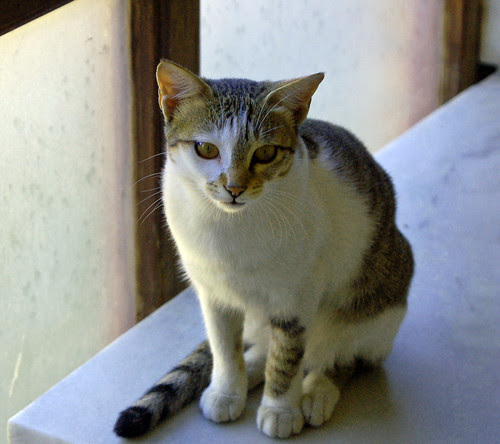cat: (109, 47, 429, 444)
